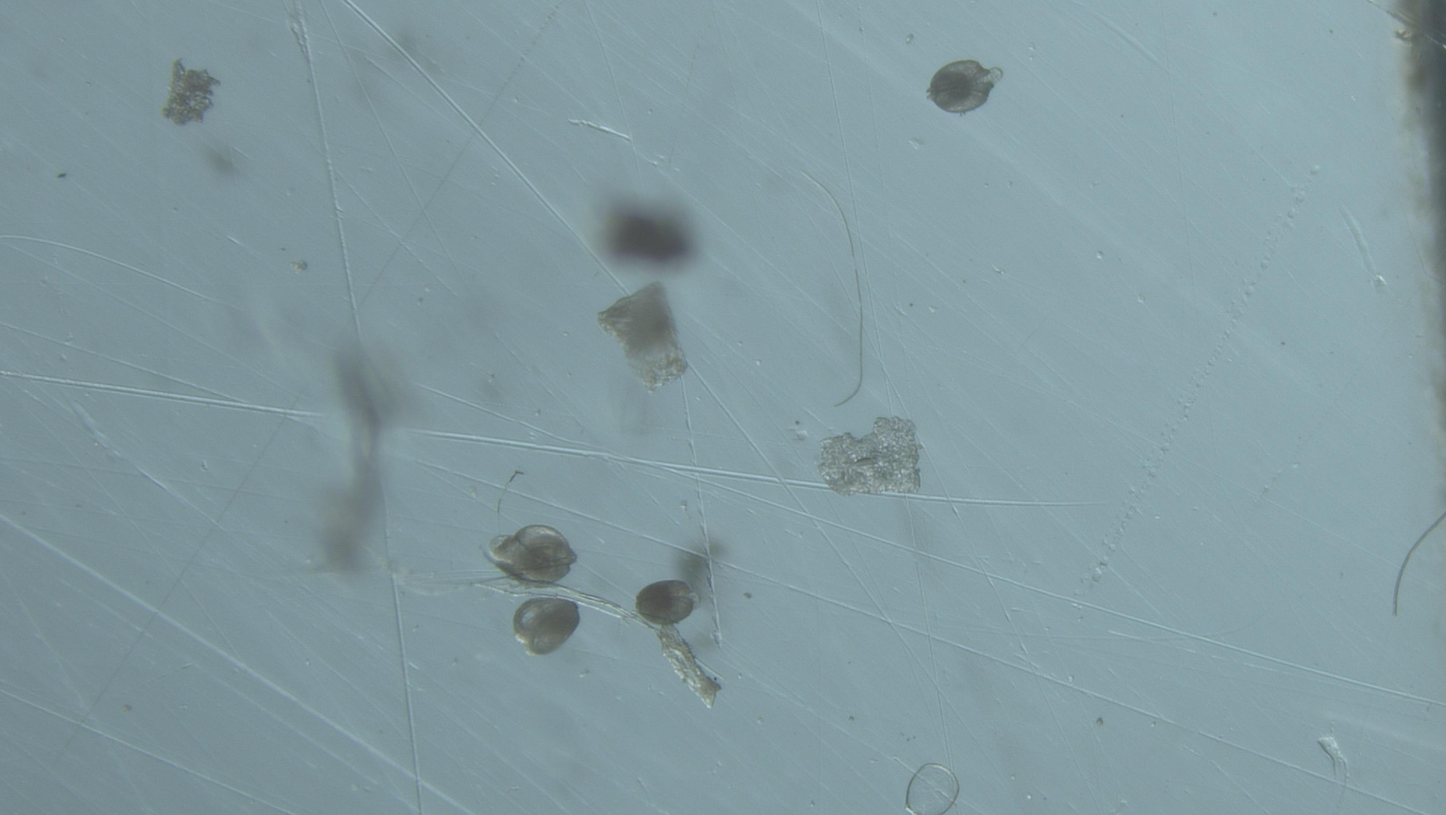dead: (905, 763, 960, 815)
live: (489, 525, 577, 583), (926, 60, 1003, 115), (513, 598, 580, 656), (635, 580, 698, 625)
